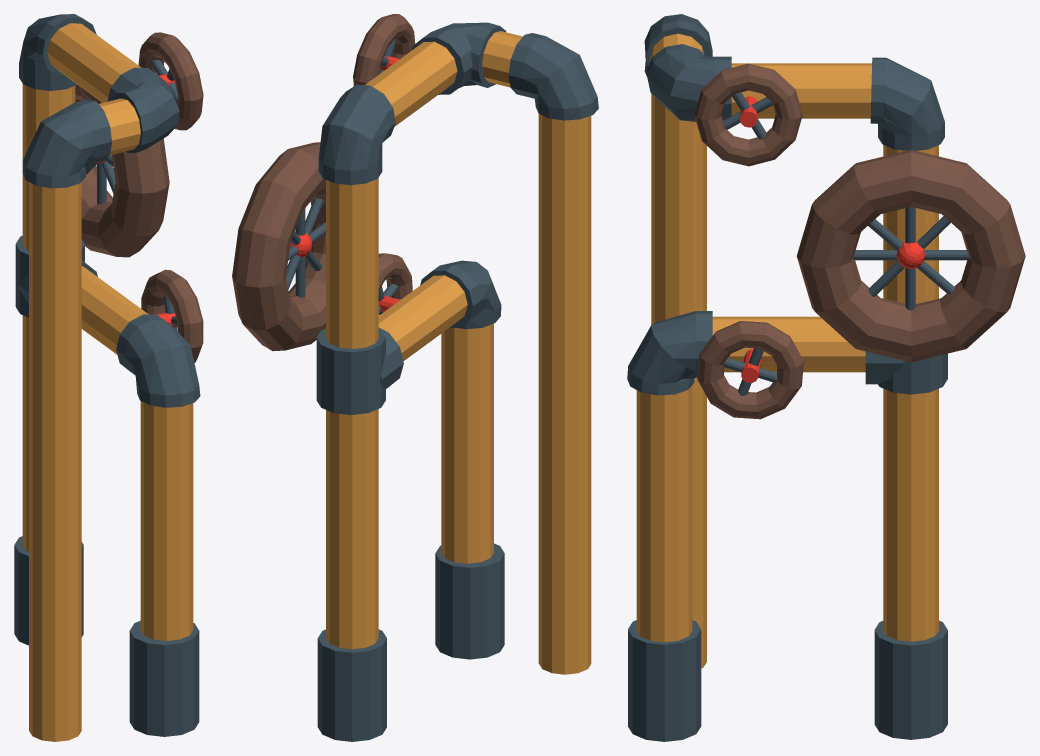
File: Steampunk pipes.glb
3 renders of one model, left to right at view 1: azimuth 30°, elevation 25°; view 2: azimuth 150°, elevation 25°; view 3: azimuth 270°, elevation 25°, orthographic. The views are drawn at different scales.
Parts seen in each view (by area): view 1: group414090621, group1142927423, group1004552146, group88248500, group1299190962, group1958307834, group101053789, group444473868, group231731733, group1350089925, group513117509, group1421749061 (+5 smaller); view 2: group414090621, group101053789, group1004552146, group1142927423, group88248500, group2148647, group1421749061, group1299190962, group1550065549, group513117509, group444473868, group231731733 (+6 smaller); view 3: group1004552146, group101053789, group414090621, group1142927423, group88248500, group2148647, group1350089925, group1368530898, group1421749061, group1958307834, group444473868, group513117509 (+8 smaller).
Boxes of the visible parts, x1=… form: group414090621: x1=29, y1=182, x2=81, y2=741; group1142927423: x1=140, y1=401, x2=193, y2=640; group1004552146: x1=75, y1=84, x2=169, y2=257; group88248500: x1=129, y1=620, x2=199, y2=736; group1299190962: x1=22, y1=99, x2=111, y2=188; group1958307834: x1=116, y1=314, x2=200, y2=407; group101053789: x1=22, y1=84, x2=75, y2=551; group444473868: x1=47, y1=23, x2=140, y2=102; group231731733: x1=107, y1=67, x2=179, y2=153; group1350089925: x1=138, y1=32, x2=203, y2=130; group513117509: x1=81, y1=266, x2=148, y2=354; group1421749061: x1=19, y1=14, x2=96, y2=90; group414090621: x1=538, y1=114, x2=591, y2=674; group101053789: x1=326, y1=178, x2=378, y2=649; group1004552146: x1=232, y1=142, x2=325, y2=351; group1142927423: x1=441, y1=323, x2=493, y2=563; group88248500: x1=435, y1=543, x2=504, y2=659; group2148647: x1=317, y1=629, x2=386, y2=741; group1421749061: x1=318, y1=84, x2=395, y2=185; group1299190962: x1=508, y1=33, x2=598, y2=120; group1550065549: x1=316, y1=328, x2=385, y2=414; group513117509: x1=378, y1=275, x2=467, y2=360; group444473868: x1=365, y1=41, x2=457, y2=126; group231731733: x1=411, y1=22, x2=506, y2=94; group1004552146: x1=796, y1=149, x2=1025, y2=362; group101053789: x1=883, y1=145, x2=938, y2=641; group414090621: x1=651, y1=94, x2=706, y2=668; group1142927423: x1=636, y1=385, x2=692, y2=642; group88248500: x1=628, y1=620, x2=701, y2=741; group2148647: x1=874, y1=620, x2=947, y2=739; group1350089925: x1=694, y1=63, x2=802, y2=166; group1368530898: x1=697, y1=321, x2=803, y2=419; group1421749061: x1=870, y1=57, x2=944, y2=150; group1958307834: x1=627, y1=311, x2=712, y2=395; group444473868: x1=731, y1=63, x2=871, y2=118; group513117509: x1=712, y1=316, x2=865, y2=372.
Bounding box in the file's own units: 1.74 × 5.14 × 2.71.
